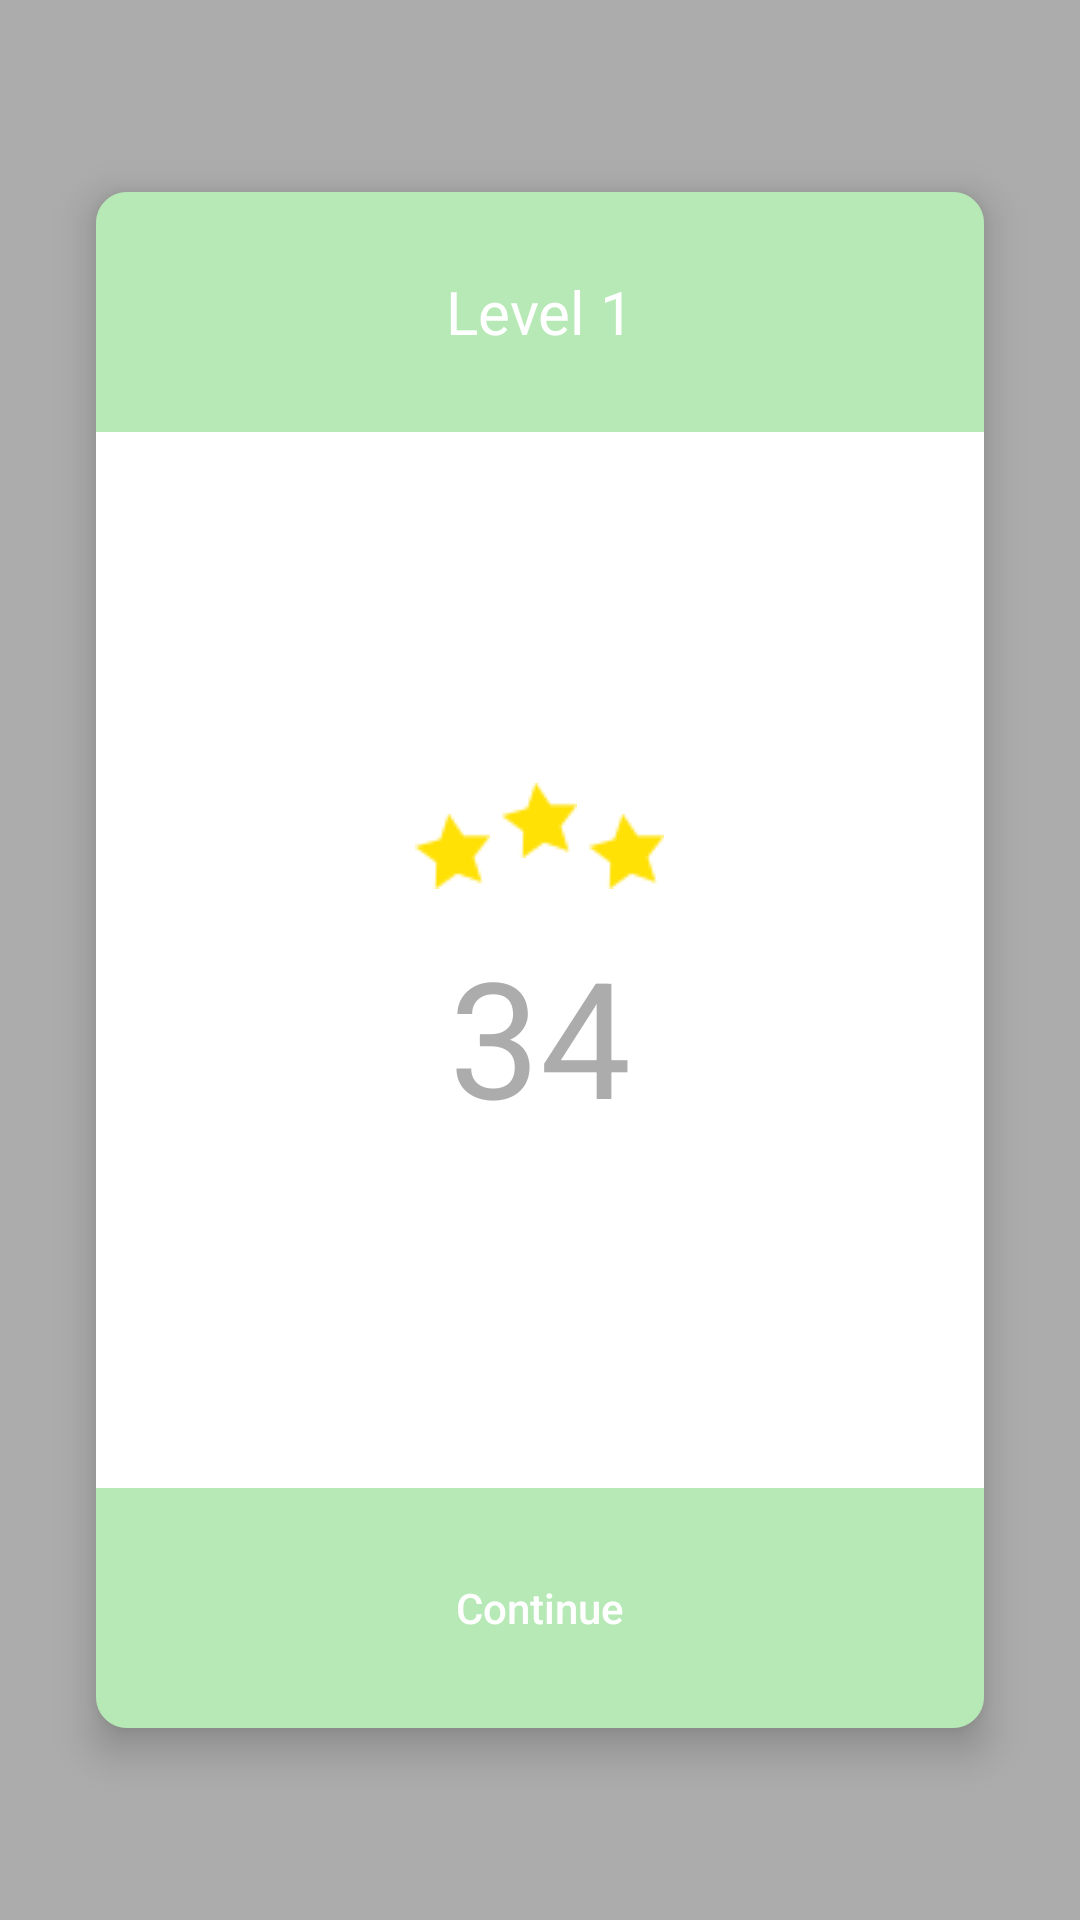

Where icons sit on this 1080 × 1920 app screen, as (x1, y1, x2, y2):
star: (502, 783, 577, 858), (415, 814, 490, 889), (589, 814, 664, 889)
